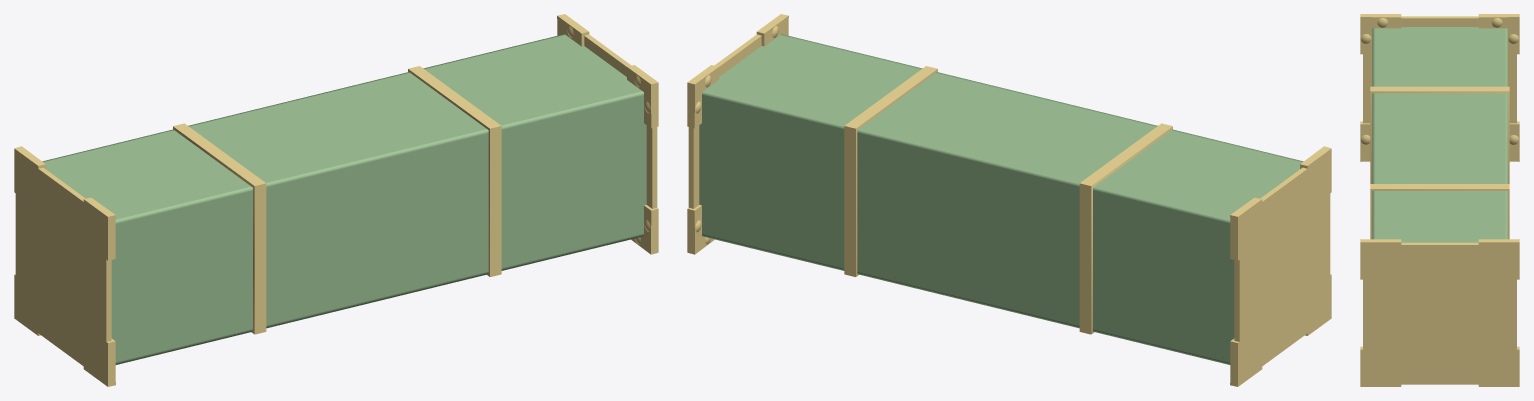
File: Ventilating_Duct_01b_snaps020.FBX
3 renders of one model, left to right at view 1: azimuth 30°, elevation 25°; view 2: azimuth 150°, elevation 25°; view 3: azimuth 270°, elevation 25°, orthographic. The views are drawn at different scales.
Visible parts, largest first — view 1: Ventilating_Duct_01b_snaps020_LOD0; view 2: Ventilating_Duct_01b_snaps020_LOD0; view 3: Ventilating_Duct_01b_snaps020_LOD0.
Part boxes in pixels (x1,y1,x2,y2): Ventilating_Duct_01b_snaps020_LOD0: [14, 14, 658, 386]; Ventilating_Duct_01b_snaps020_LOD0: [687, 14, 1331, 386]; Ventilating_Duct_01b_snaps020_LOD0: [1360, 14, 1519, 386].
Size of what is drawn, in the model's own units: 2 by 0.591 by 0.5908.
